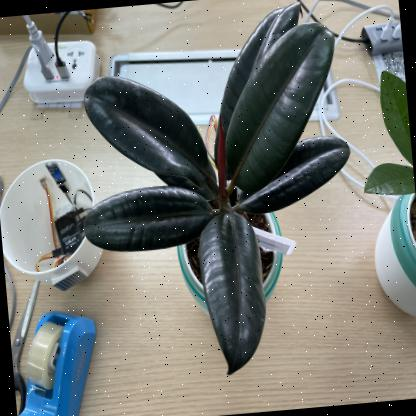Rubber: (65, 0, 371, 391)
